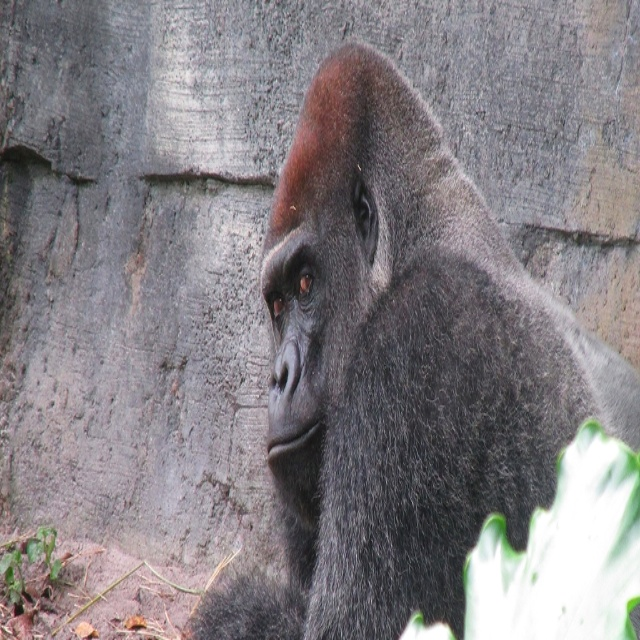Monkey: (192, 38, 640, 639)
